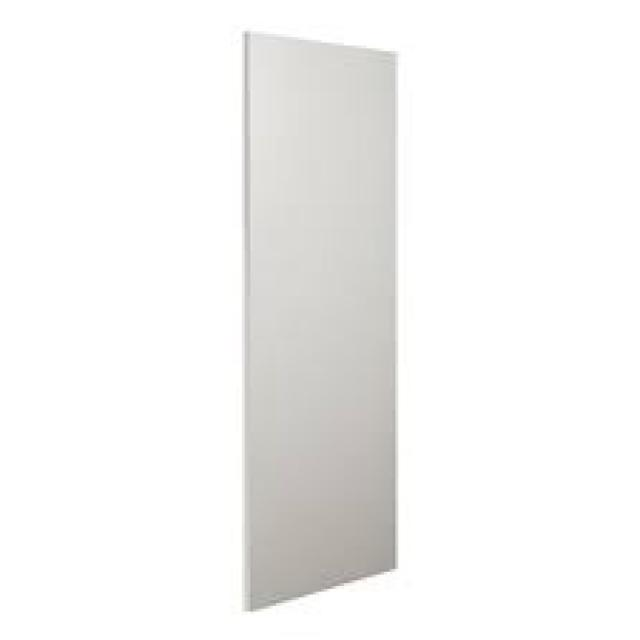door: (243, 29, 400, 612)
